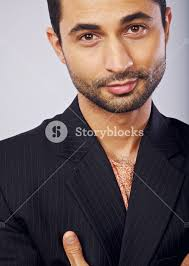middle_eastern_male: (71, 1, 158, 101)
